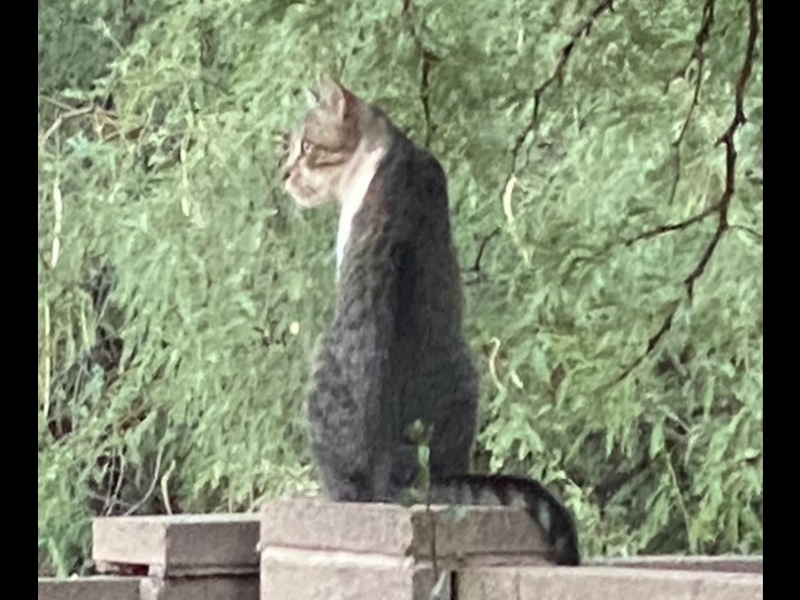cat: (278, 76, 585, 565)
